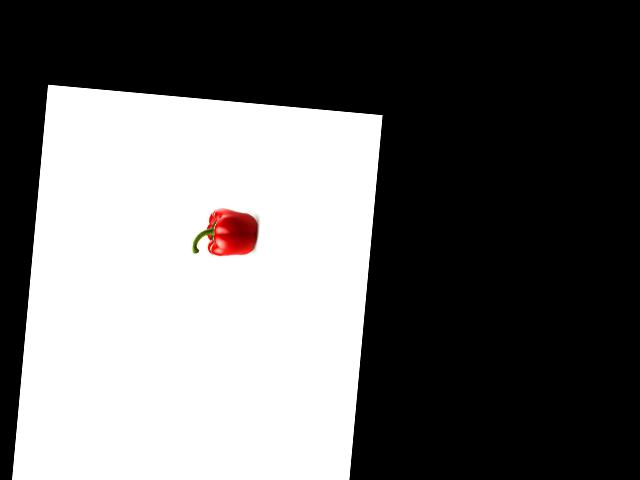bell_pepper: (191, 207, 259, 260)
